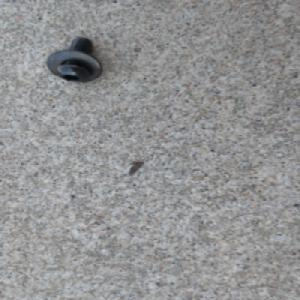BoltWasher: (44, 36, 104, 83)
